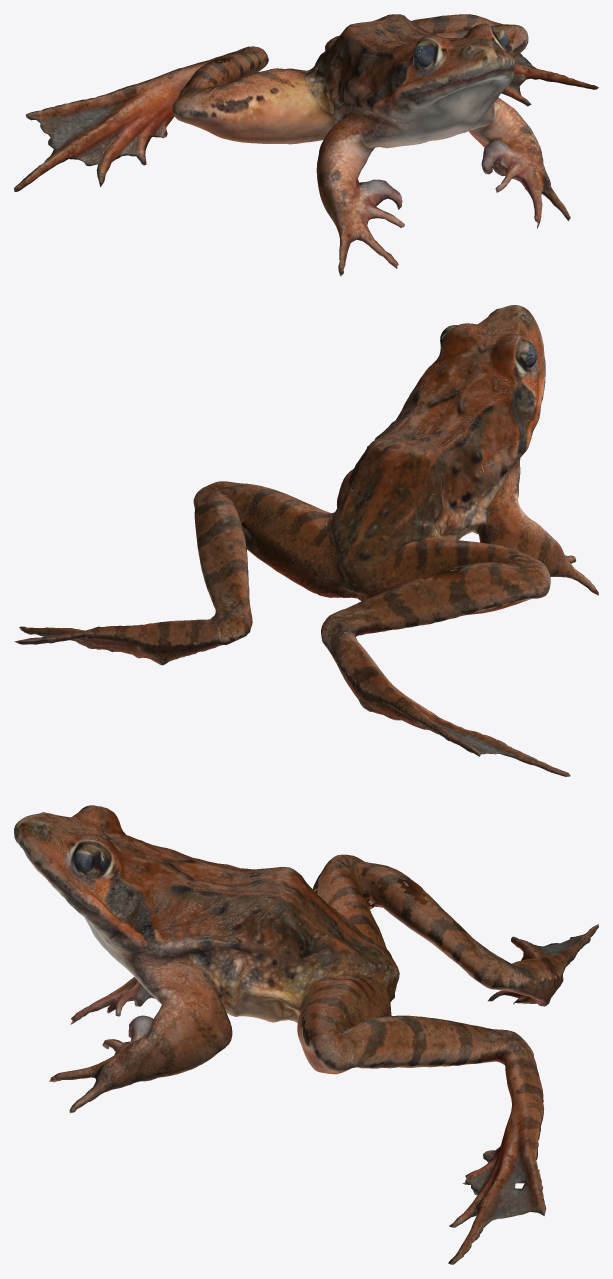
Rendered from montane-frog.glb.
3 renders of one model, top to bottom at view 1: azimuth 30°, elevation 25°; view 2: azimuth 150°, elevation 25°; view 3: azimuth 270°, elevation 25°, orthographic. The views are drawn at different scales.
Visible parts, largest first — view 1: SW_frog_Montane Brown Frog (F), SW_frog_Eye; view 2: SW_frog_Montane Brown Frog (F); view 3: SW_frog_Montane Brown Frog (F), SW_frog_Eye.001.
Boxes of the visible parts, x1,y1,x2,y2 form: SW_frog_Montane Brown Frog (F): (14, 14, 598, 276); SW_frog_Eye: (413, 41, 434, 67); SW_frog_Montane Brown Frog (F): (14, 305, 598, 776); SW_frog_Montane Brown Frog (F): (14, 806, 598, 1264); SW_frog_Eye.001: (73, 845, 103, 876).
Size of the model in its own units: 1.1 by 0.4689 by 0.8731.
Materials: 3 (3 with a texture image).
